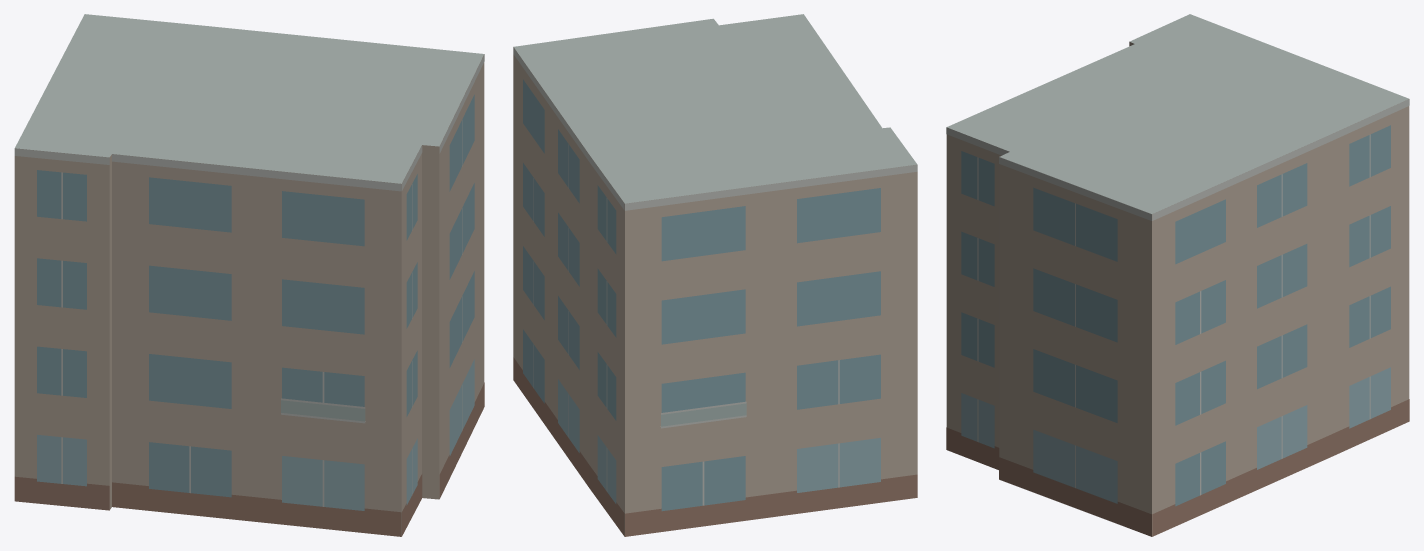
The model's file is survey-upis-32782600.glb.
3 renders of one model, left to right at view 1: azimuth 30°, elevation 25°; view 2: azimuth 150°, elevation 25°; view 3: azimuth 270°, elevation 25°, orthographic. The views are drawn at different scales.
Visible parts, largest first — view 1: survey-upis-32782600.tmp; view 2: survey-upis-32782600.tmp; view 3: survey-upis-32782600.tmp.
Part boxes in pixels (x1,y1,x2,y2): survey-upis-32782600.tmp: [14, 14, 484, 536]; survey-upis-32782600.tmp: [513, 14, 917, 536]; survey-upis-32782600.tmp: [946, 14, 1409, 536].
Bounding box in the file's own units: 15.05 × 11.3 × 14.7.
